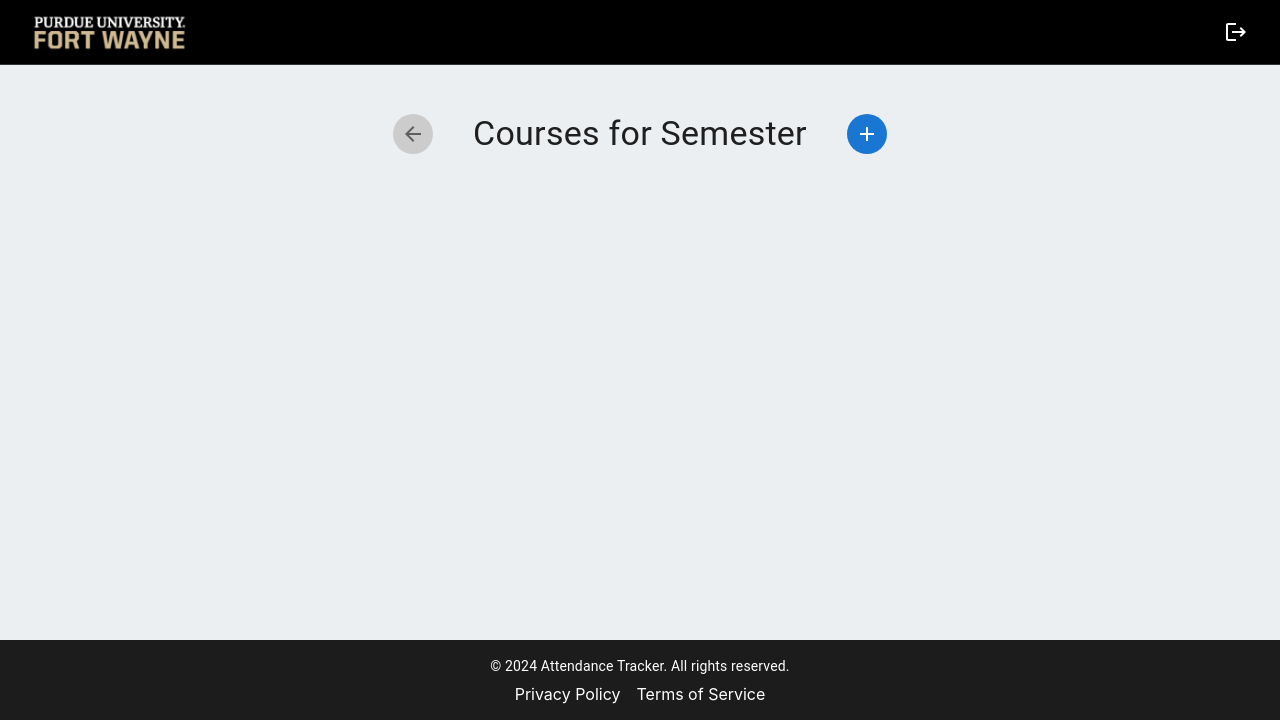
it: Course Management Page › should open the add course form when the 'Add Course' button is clicked
Click the button with test id "add-course-button" at x=867, y=134, box x1=847 y1=114 x2=887 y2=154
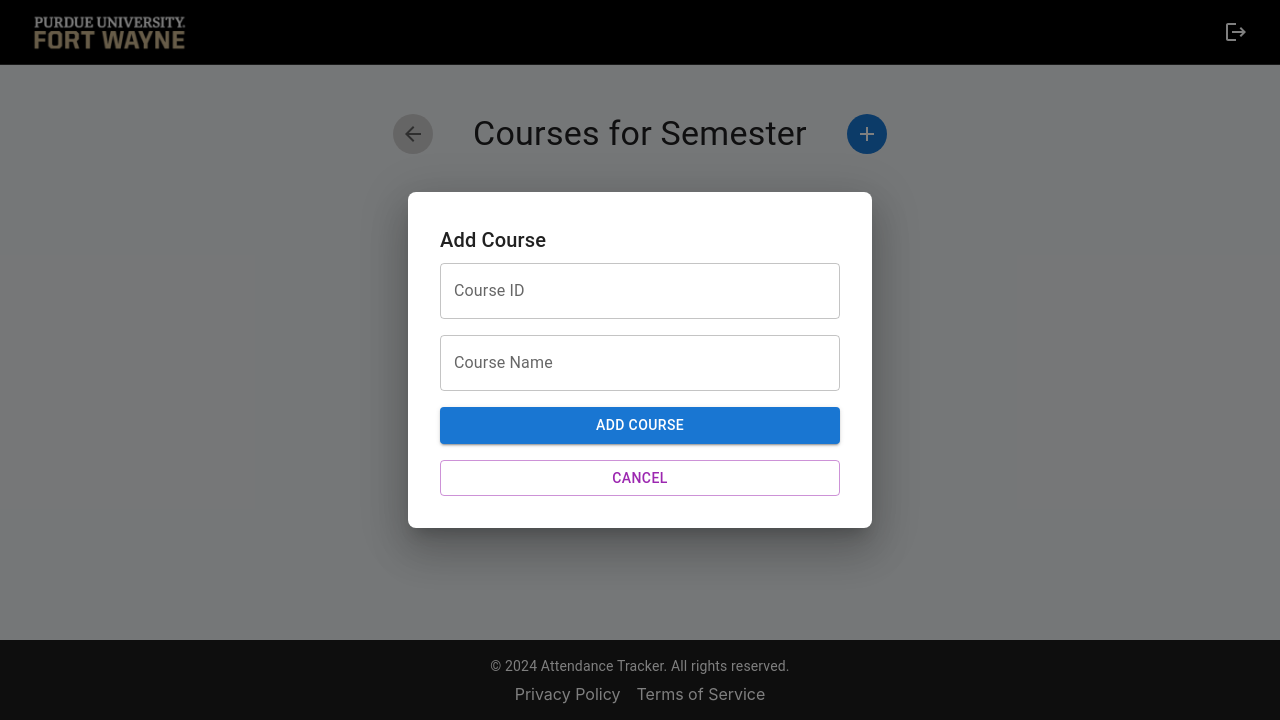
Expected: the element with test id "course-form" is shown, x1=408 y1=192 x2=872 y2=528
Expected: the element with test id "course-id-input" is shown, x1=440 y1=263 x2=840 y2=319
Expected: the element with test id "course-name-input" is shown, x1=440 y1=335 x2=840 y2=391
